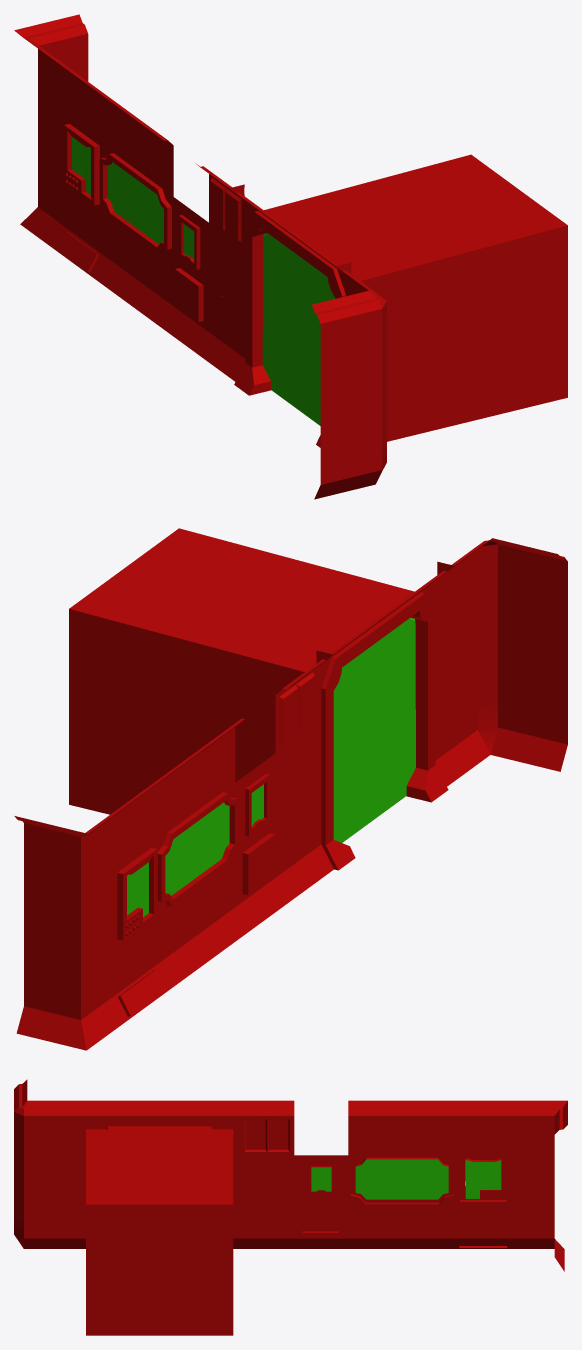
3 renders of one model, top to bottom at view 1: azimuth 30°, elevation 25°; view 2: azimuth 150°, elevation 25°; view 3: azimuth 270°, elevation 25°, orthographic. The views are drawn at different scales.
Visible parts, largest first — view 1: Wall_Cell_Structure_LP, Wall_Corner_Simple_In_LP, Wall_Window_LP, Wall_Cell_Portal_LP, Wall_Corner_Simple_Out_LP, Wall_Vent_Low_LP, Wall_Simple_Low_LP, Wall_Window_Glass_LP, Wall_Vent_Low_2_LP, Wall_Simple_Mid_LP, Wall_Simple_Mid_Panel_1_LP, Wall_Simple_Up_LP (+3 smaller); view 2: Wall_Cell_Structure_LP, Wall_Corner_Simple_In_LP, Wall_Corner_Simple_Out_LP, Wall_Window_LP, Wall_Cell_Portal_LP, Wall_Simple_Low_LP, Wall_Vent_Low_LP, Wall_Window_Glass_LP, Wall_Vent_Low_2_LP, Wall_Simple_Mid_LP, Wall_Cabinet_Up_LP, Wall_Simple_Mid_Panel_1_LP (+3 smaller); view 3: Wall_Cell_Structure_LP, Wall_Window_LP, Wall_Corner_Simple_In_LP, Wall_Corner_Simple_Out_LP, Wall_Window_Glass_LP, Wall_Cabinet_Up_LP, Wall_Simple_Up_LP, Wall_Simple_Mid_LP, Wall_Simple_Low_LP, Wall_Vent_Low_LP, Wall_Vent_Low_2_LP, Wall_Simple_Mid_Panel_1_LP (+3 smaller).
Part boxes in pixels (box(x1,y1,x2,y2)): Wall_Cell_Structure_LP: box(230, 154, 567, 447); Wall_Corner_Simple_In_LP: box(312, 268, 386, 499); Wall_Window_LP: box(89, 85, 173, 328); Wall_Cell_Portal_LP: box(262, 233, 335, 425); Wall_Corner_Simple_Out_LP: box(14, 14, 88, 249); Wall_Vent_Low_LP: box(162, 261, 208, 354); Wall_Simple_Low_LP: box(198, 287, 244, 380); Wall_Window_Glass_LP: box(107, 162, 163, 244); Wall_Vent_Low_2_LP: box(56, 186, 102, 275); Wall_Simple_Mid_LP: box(209, 223, 244, 312); Wall_Simple_Mid_Panel_1_LP: box(173, 197, 208, 286); Wall_Simple_Up_LP: box(54, 60, 102, 144); Wall_Cell_Structure_LP: box(69, 528, 454, 872); Wall_Corner_Simple_In_LP: box(437, 538, 567, 784); Wall_Corner_Simple_Out_LP: box(14, 803, 130, 1050); Wall_Window_LP: box(154, 715, 250, 991); Wall_Cell_Portal_LP: box(333, 618, 415, 842); Wall_Simple_Low_LP: box(275, 797, 328, 902); Wall_Vent_Low_LP: box(235, 827, 288, 931); Wall_Window_Glass_LP: box(165, 802, 229, 895); Wall_Vent_Low_2_LP: box(114, 918, 167, 1020); Wall_Simple_Mid_LP: box(275, 724, 316, 825); Wall_Cabinet_Up_LP: box(275, 656, 330, 752); Wall_Simple_Mid_Panel_1_LP: box(235, 753, 275, 855); Wall_Cell_Structure_LP: box(78, 1100, 239, 1335); Wall_Window_LP: box(348, 1100, 456, 1248); Wall_Corner_Simple_In_LP: box(14, 1079, 77, 1248); Wall_Corner_Simple_Out_LP: box(510, 1100, 567, 1271); Wall_Window_Glass_LP: box(355, 1159, 448, 1199); Wall_Cabinet_Up_LP: box(240, 1100, 294, 1155); Wall_Simple_Up_LP: box(456, 1100, 510, 1155); Wall_Simple_Mid_LP: box(240, 1155, 294, 1204); Wall_Simple_Low_LP: box(240, 1204, 294, 1248); Wall_Vent_Low_LP: box(294, 1204, 348, 1248); Wall_Vent_Low_2_LP: box(456, 1204, 510, 1248); Wall_Simple_Mid_Panel_1_LP: box(294, 1155, 348, 1204).
Bounding box in the file's own units: 4.79 × 3 × 10.25.
